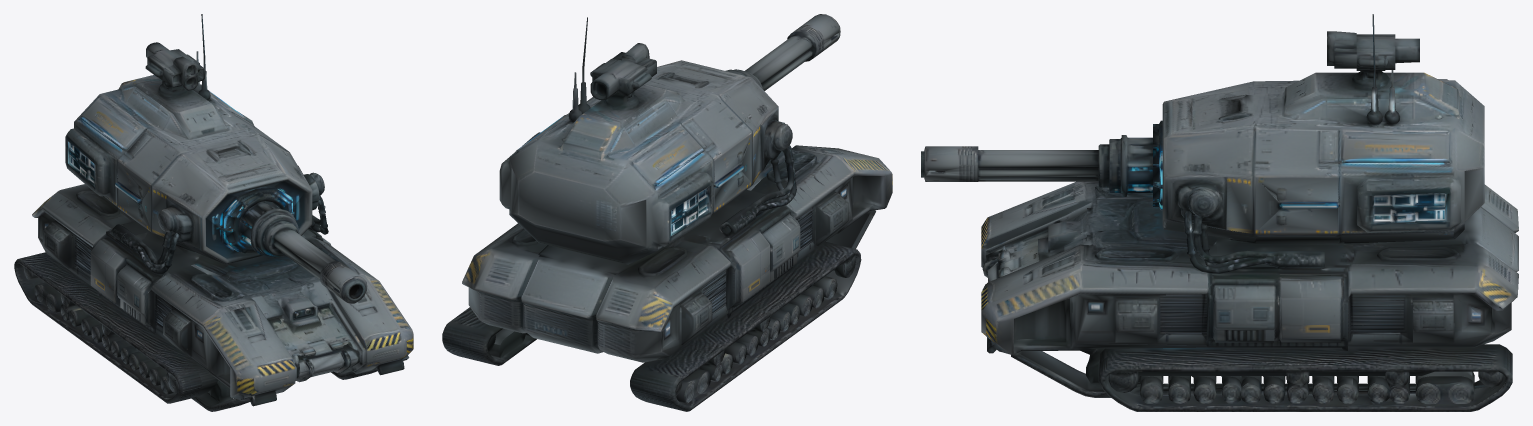
Rendered from Tank.fbx.
The picture shows the model from 3 angles, left to right: view 1: azimuth 30°, elevation 25°; view 2: azimuth 150°, elevation 25°; view 3: azimuth 270°, elevation 25°; orthographic projection. The views are drawn at different scales.
Parts seen in each view (by area): view 1: mesh_input; view 2: mesh_input; view 3: mesh_input.
Boxes of the visible parts, x1=… form: mesh_input: x1=14, y1=14, x2=413, y2=411; mesh_input: x1=442, y1=14, x2=892, y2=411; mesh_input: x1=921, y1=14, x2=1518, y2=411.
Size of the model in its own units: 92.97 by 124 by 190.
